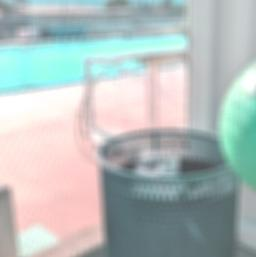algae: (218, 46, 256, 200)
